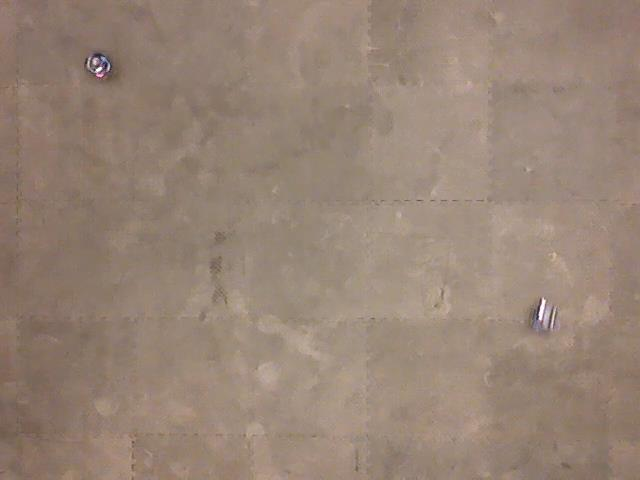Agent: (527, 295, 559, 337), (82, 49, 114, 82)
